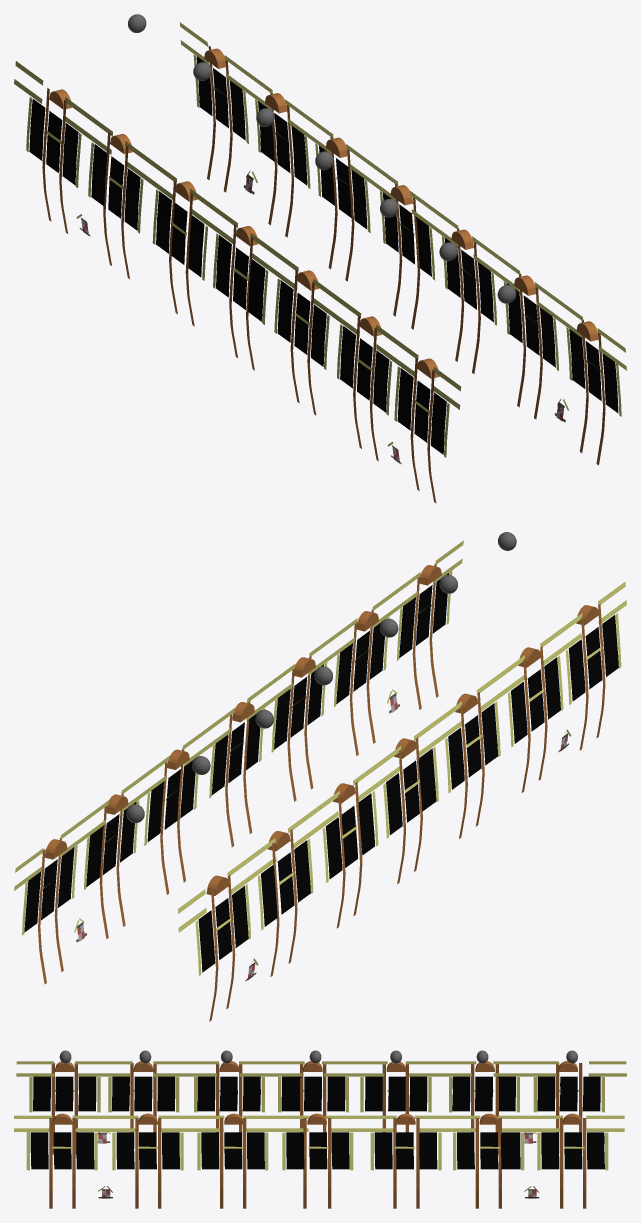
File: met-dreadnought-first-windows.dae
The picture shows the model from 3 angles, top to bottom: view 1: azimuth 30°, elevation 25°; view 2: azimuth 150°, elevation 25°; view 3: azimuth 270°, elevation 25°; orthographic projection. The views are drawn at different scales.
Parts seen in each view (by area): view 1: Plane_6293, Plane_6274, Plane_6317, Plane_6265, Plane_6276, Plane_6307, Plane_6285, Plane_6296, Plane_6303, Plane_6261, Plane_6313, Plane_6270 (+22 smaller); view 2: Plane_6274, Plane_6313, Plane_6265, Plane_6285, Plane_6293, Plane_6270, Plane_6261, Plane_6286, Plane_6307, Plane_6317, Plane_6276, Plane_6303 (+23 smaller); view 3: Plane_6163, Plane_6184, Plane_6147, Plane_6172, Plane_6179, Plane_6191, Plane_6162, Plane_6169, Plane_6143, Plane_6189, Plane_6146, Plane_6158 (+78 smaller).
Boxes of the visible parts, bbox=[...] form: Plane_6293: bbox=[124, 168, 140, 230]; Plane_6274: bbox=[277, 280, 293, 342]; Plane_6317: bbox=[397, 368, 413, 430]; Plane_6265: bbox=[373, 350, 389, 412]; Plane_6276: bbox=[188, 215, 204, 277]; Plane_6307: bbox=[62, 123, 78, 185]; Plane_6285: bbox=[216, 235, 231, 297]; Plane_6296: bbox=[91, 144, 107, 206]; Plane_6303: bbox=[29, 99, 45, 160]; Plane_6261: bbox=[340, 326, 355, 388]; Plane_6313: bbox=[431, 392, 446, 454]; Plane_6270: bbox=[311, 304, 326, 366]; Plane_6274: bbox=[448, 727, 464, 789]; Plane_6313: bbox=[602, 615, 618, 676]; Plane_6265: bbox=[544, 657, 560, 719]; Plane_6285: bbox=[386, 773, 402, 834]; Plane_6293: bbox=[294, 840, 310, 902]; Plane_6270: bbox=[481, 703, 498, 765]; Plane_6261: bbox=[511, 682, 527, 743]; Plane_6286: bbox=[325, 817, 342, 879]; Plane_6307: bbox=[232, 886, 248, 947]; Plane_6317: bbox=[568, 639, 585, 701]; Plane_6276: bbox=[358, 793, 374, 855]; Plane_6303: bbox=[198, 910, 215, 972]; Plane_6163: bbox=[116, 1132, 134, 1169]; Plane_6184: bbox=[502, 1132, 520, 1169]; Plane_6147: bbox=[30, 1132, 48, 1169]; Plane_6172: bbox=[331, 1132, 349, 1169]; Plane_6179: bbox=[374, 1132, 392, 1169]; Plane_6191: bbox=[541, 1132, 559, 1169]; Plane_6162: bbox=[201, 1132, 219, 1169]; Plane_6169: bbox=[286, 1132, 304, 1169]; Plane_6143: bbox=[76, 1132, 94, 1169]; Plane_6189: bbox=[419, 1132, 437, 1169]; Plane_6146: bbox=[53, 1132, 71, 1169]; Plane_6158: bbox=[247, 1132, 264, 1169].
Bounding box in the file's own units: 2.1 × 9.37 × 2.2.
